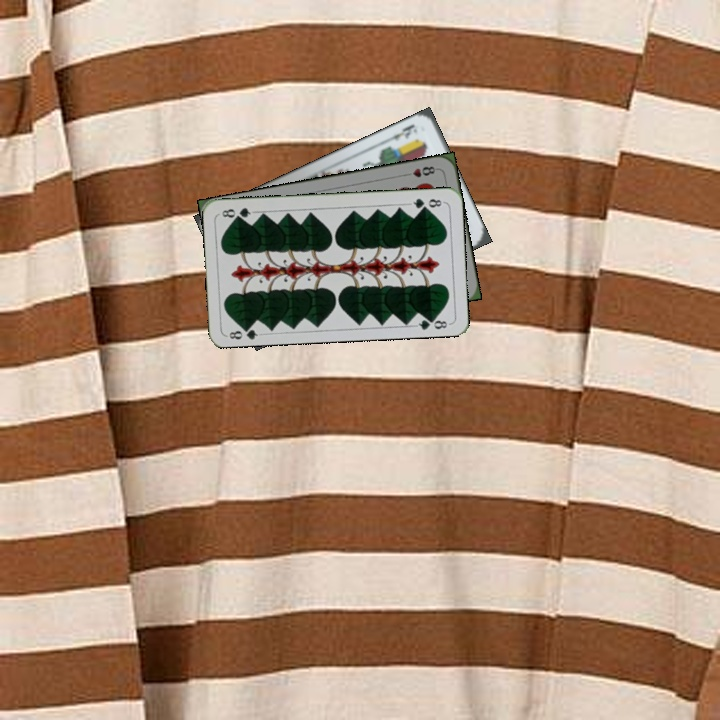EK: (382, 120, 420, 145)
G8: (223, 321, 264, 342), (406, 194, 446, 212)
H8: (400, 162, 440, 180)
